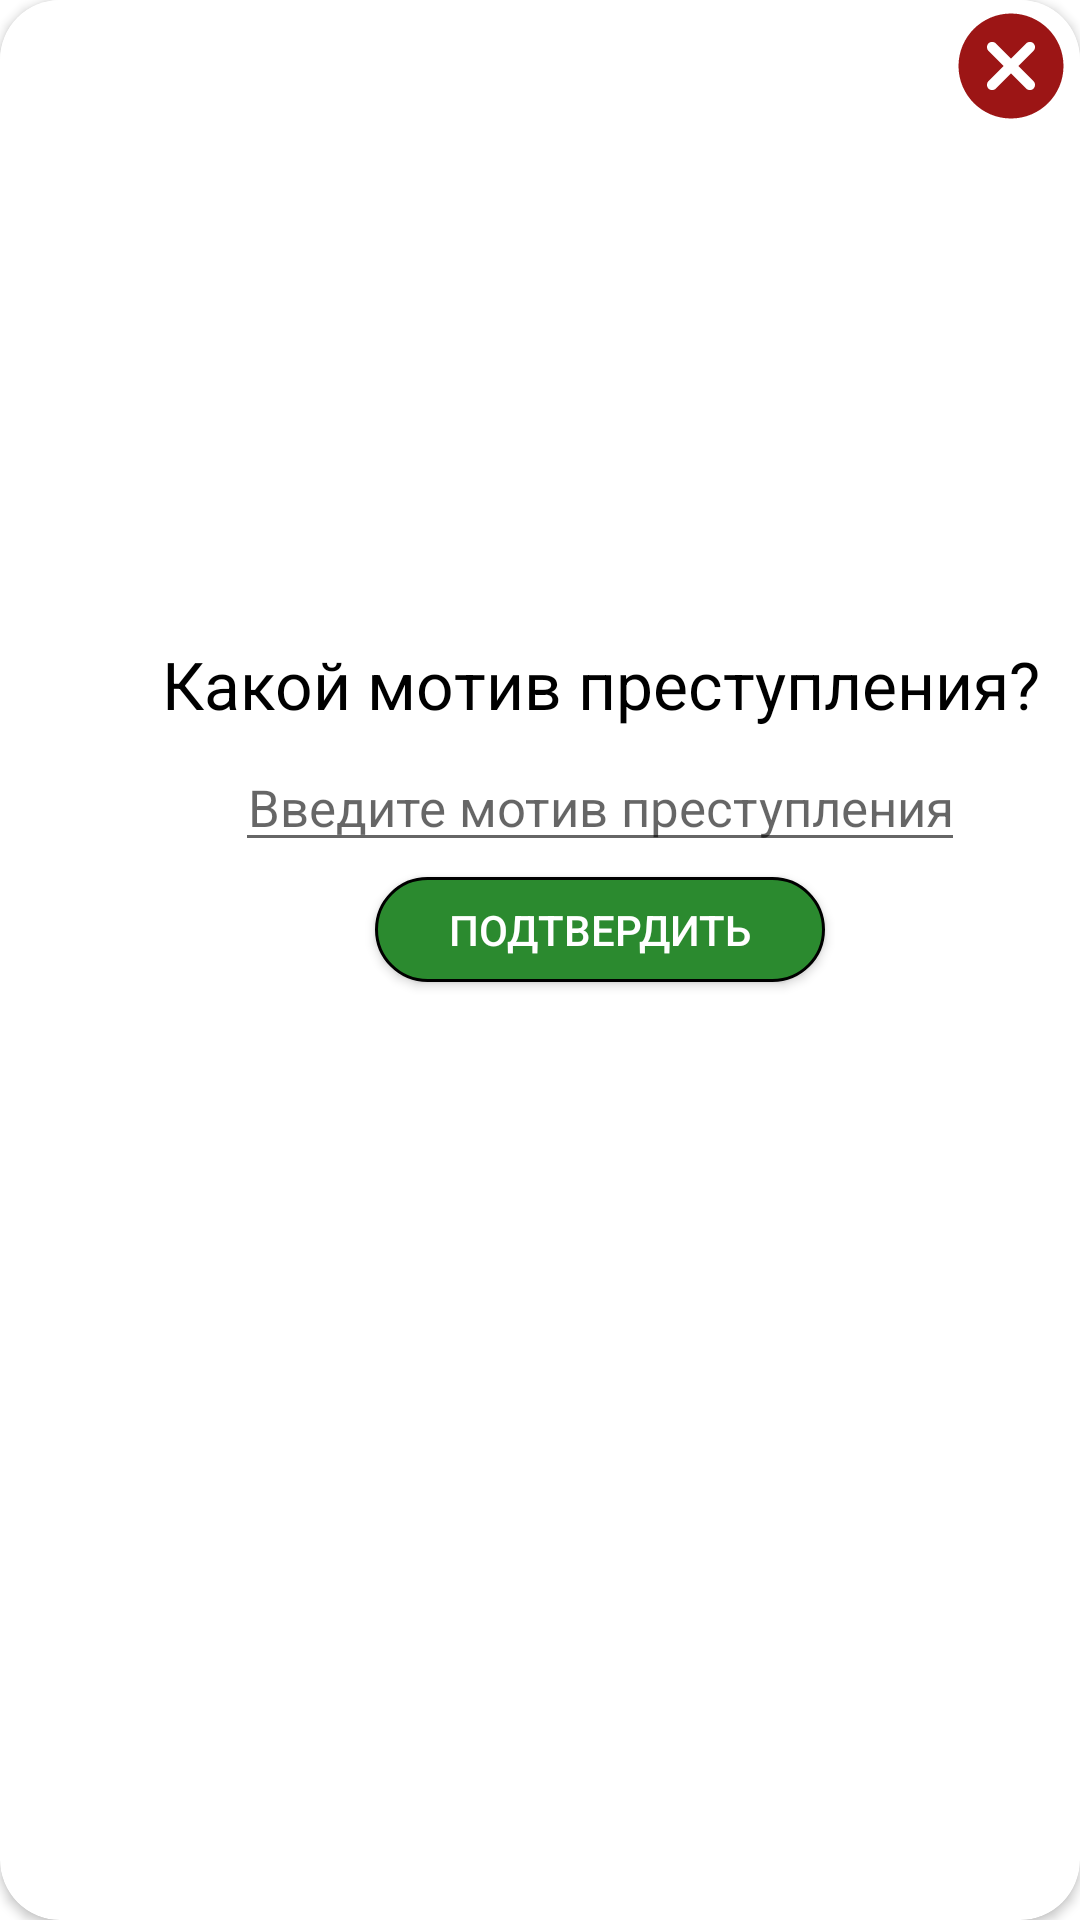

Named icons in this screenshot (1080w x 1920h) and their centers, (x=x, y=y):
cancel: (x=1016, y=66)
